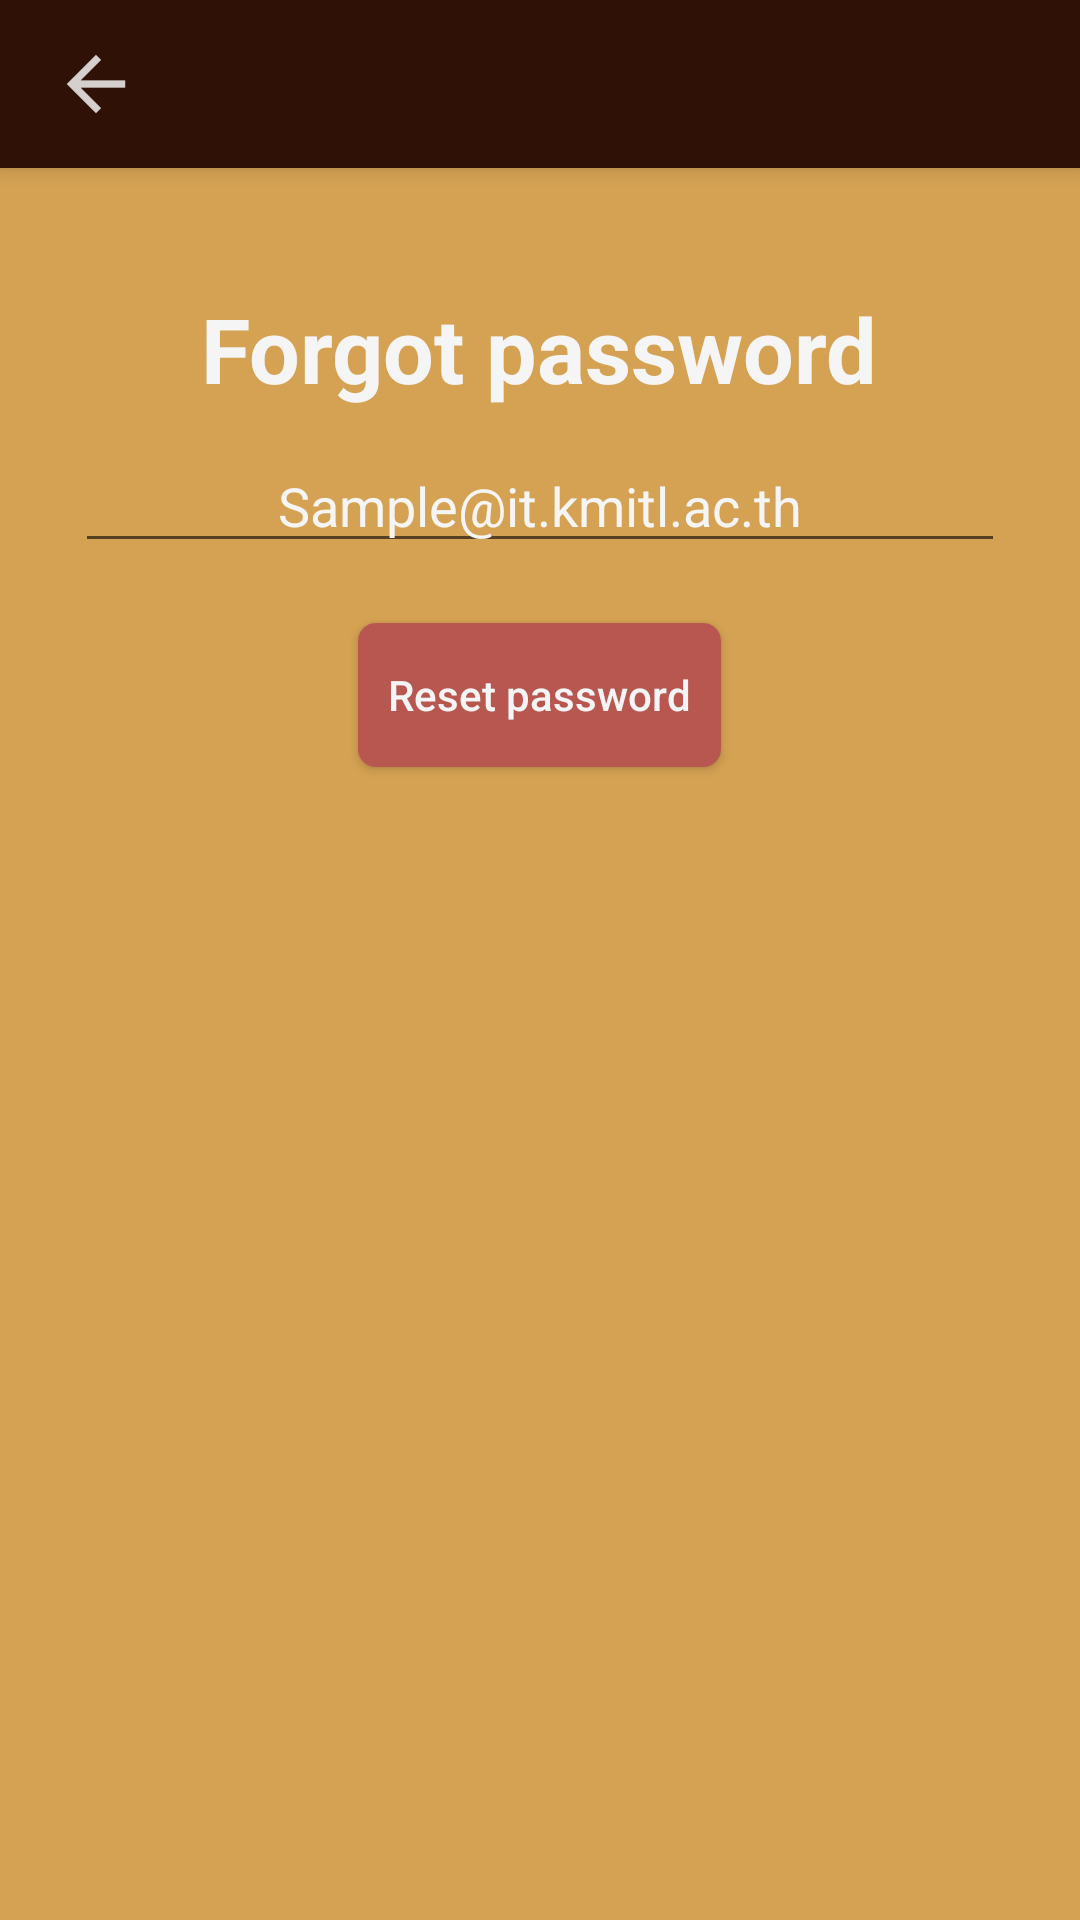

Where to tap for icons on this 1080 × 1920 app screen, as point (x, y):
back: point (96, 84)
